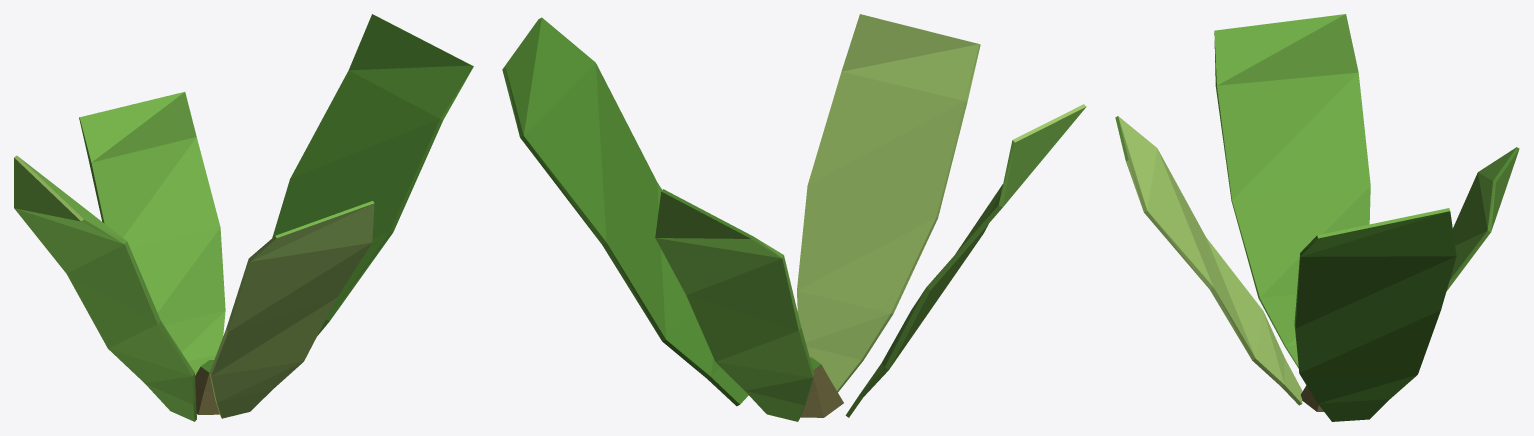
Rendered from sea_lettuce.gltf.
3 renders of one model, left to right at view 1: azimuth 30°, elevation 25°; view 2: azimuth 150°, elevation 25°; view 3: azimuth 270°, elevation 25°, orthographic. The views are drawn at different scales.
Parts seen in each view (by area): view 1: sea_lettuce; view 2: sea_lettuce; view 3: sea_lettuce.
Boxes of the visible parts, left/top/right/bottom form: sea_lettuce: left=14, top=14, right=473, bottom=421; sea_lettuce: left=502, top=14, right=1086, bottom=421; sea_lettuce: left=1115, top=14, right=1519, bottom=421.
Bounding box in the file's own units: 0.6696 × 0.4231 × 0.5275.
